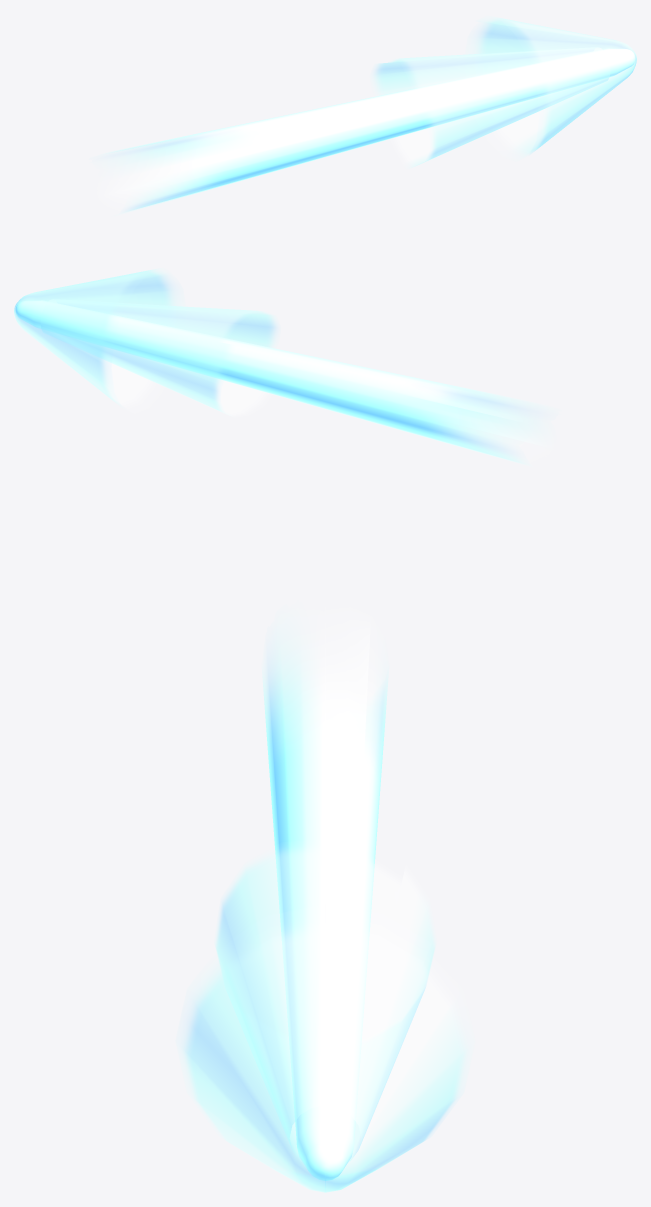
The model's file is comet.glb.
The picture shows the model from 3 angles, top to bottom: view 1: azimuth 30°, elevation 25°; view 2: azimuth 150°, elevation 25°; view 3: azimuth 270°, elevation 25°; orthographic projection. The views are drawn at different scales.
Parts seen in each view (by area): view 1: Cylinder; view 2: Cylinder; view 3: Cylinder.
Boxes of the visible parts, x1,y1,x2,y2 form: Cylinder: (104,17,636,211); Cylinder: (14,269,546,465); Cylinder: (182,620,468,1192).
Bounding box in the file's own units: 234 × 52.63 × 52.63.
Materials: 1 (1 with a texture image).
